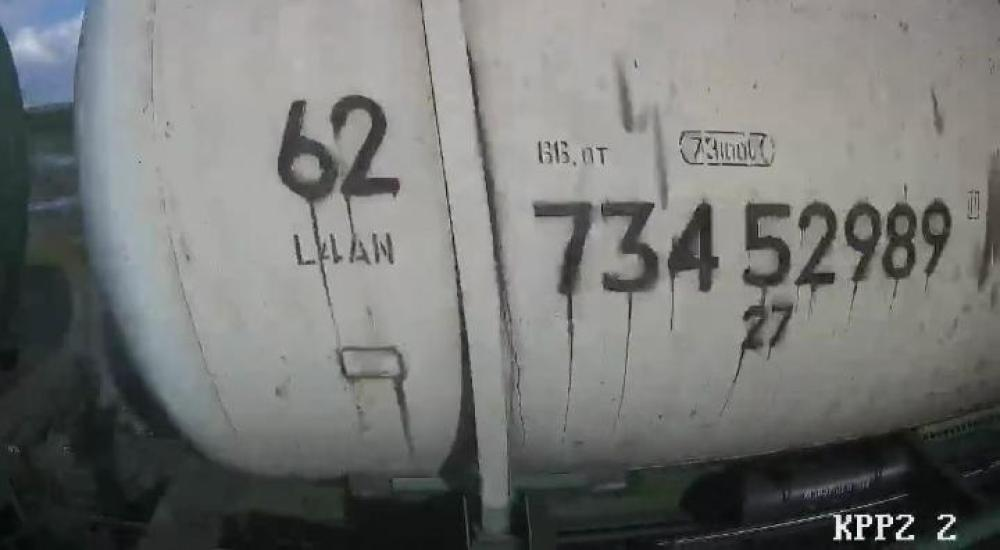Wagon-number: (530, 198, 956, 299)
